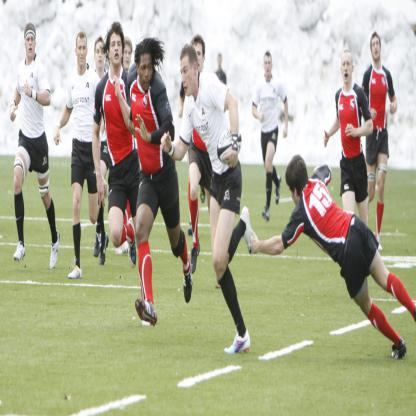Ball: (218, 128, 242, 163)
